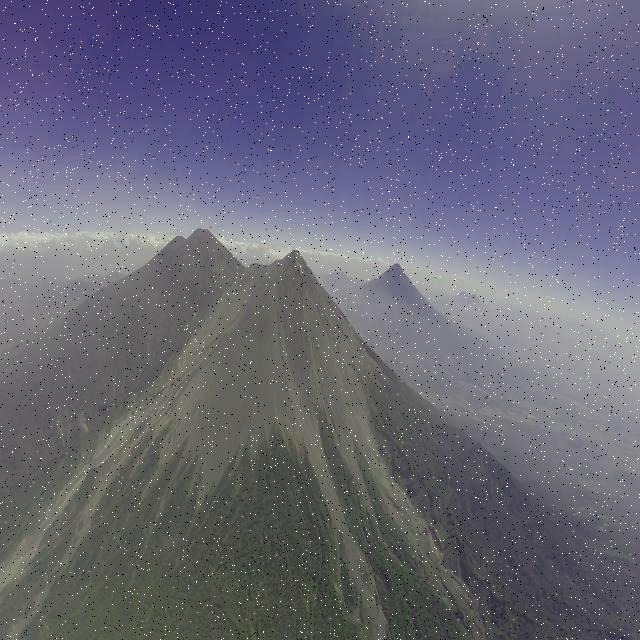Summit: (278, 248, 312, 268)
